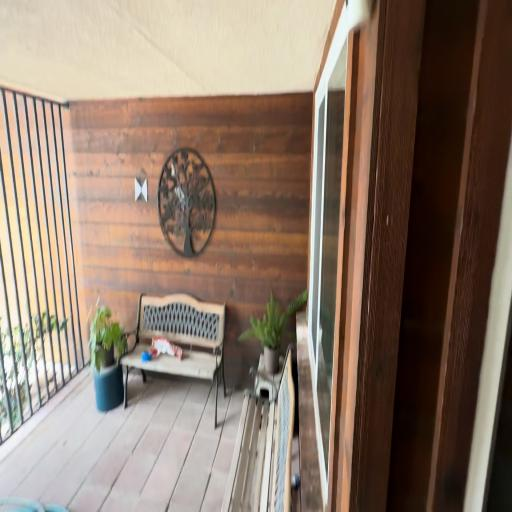target: (135, 178, 147, 202)
